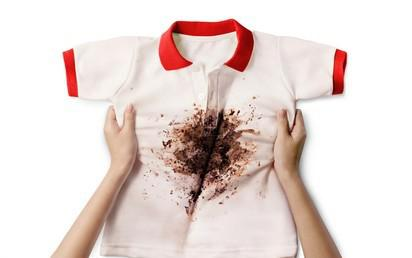gun: (152, 99, 267, 209)
